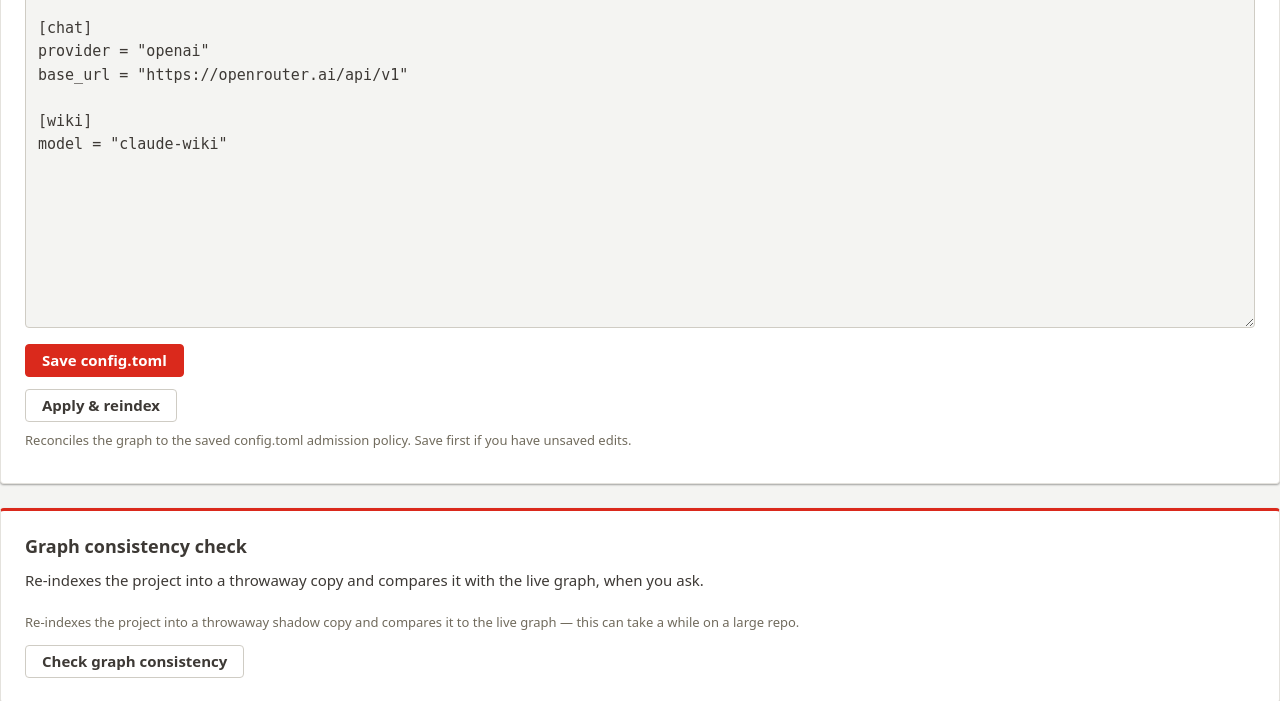
Test: ConfigView validate-then-write Save (FR-UI-12, NFR-SE-06) › posts the whole raw document with the intent token, and reports the saved bytes
(page scrolled)
Click the button "Save config.toml": (104, 361) [25,344,184,378]
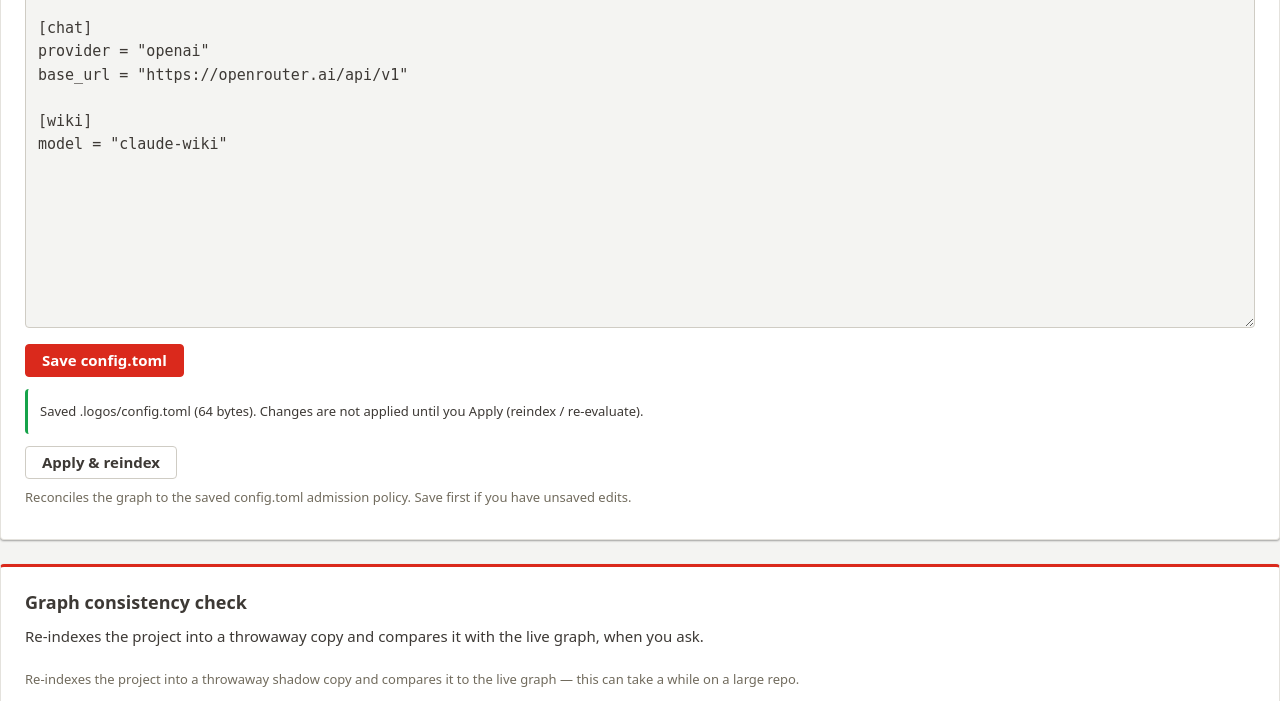
Now the text "Saved .logos/config.toml (64 bytes)" is shown, box [40,402,644,420]
